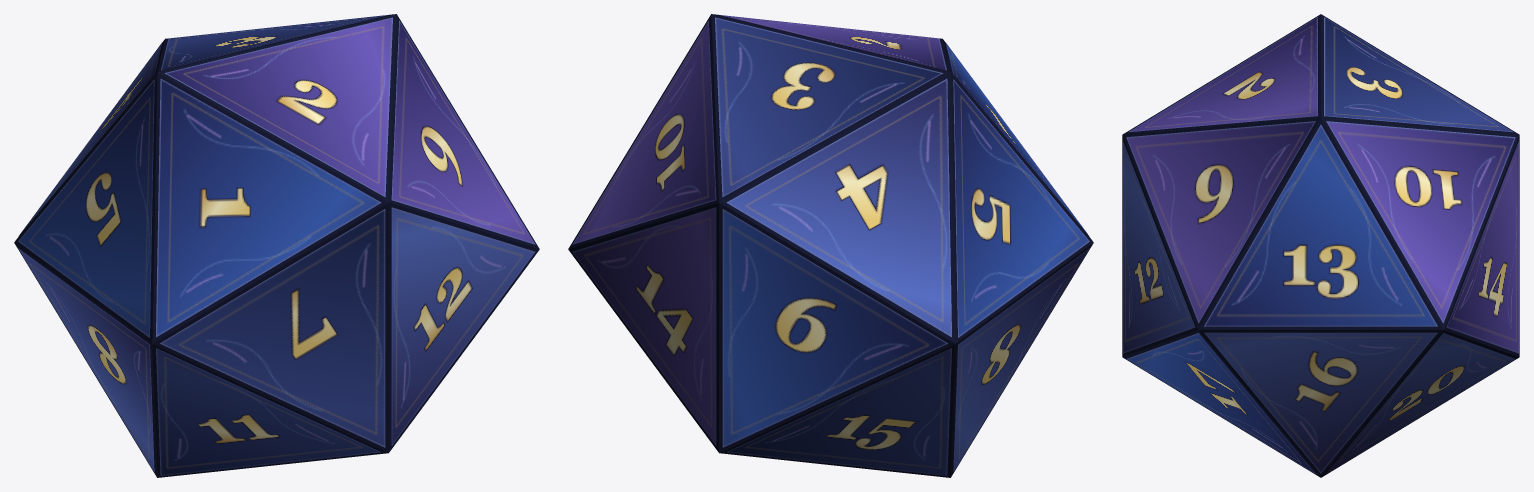
File: d20-transplanar.glb
The picture shows the model from 3 angles, left to right: view 1: azimuth 30°, elevation 25°; view 2: azimuth 150°, elevation 25°; view 3: azimuth 270°, elevation 25°; orthographic projection. The views are drawn at different scales.
Visible parts, largest first — view 1: face-01, face-07, face-02, face-05, face-12, juntas, face-11, face-06, face-08, face-03, face-04; view 2: face-04, face-09, face-03, face-05, face-14, juntas, face-15, face-10, face-08, face-02, face-01; view 3: face-13, face-06, face-10, face-16, juntas, face-02, face-03, face-12, face-14, face-17, face-20.
Boxes of the visible parts, left/top/right/bottom form: face-01: left=156, top=79, right=381, bottom=337; face-07: left=160, top=209, right=385, bottom=447; face-02: left=164, top=17, right=392, bottom=197; face-05: left=18, top=79, right=154, bottom=337; face-12: left=391, top=207, right=535, bottom=445; juntas: left=14, top=14, right=539, bottom=477; face-11: left=156, top=348, right=380, bottom=475; face-06: left=391, top=20, right=535, bottom=244; face-08: left=18, top=248, right=154, bottom=471; face-03: left=161, top=15, right=387, bottom=70; face-04: left=20, top=42, right=162, bottom=233; face-04: left=726, top=79, right=951, bottom=337; face-09: left=722, top=209, right=947, bottom=447; face-03: left=715, top=17, right=943, bottom=197; face-05: left=953, top=79, right=1089, bottom=337; face-14: left=572, top=207, right=716, bottom=445; juntas: left=568, top=14, right=1093, bottom=477; face-15: left=727, top=348, right=951, bottom=475; face-10: left=572, top=20, right=716, bottom=244; face-08: left=953, top=248, right=1089, bottom=471; face-02: left=720, top=15, right=946, bottom=70; face-01: left=945, top=42, right=1087, bottom=233; face-13: left=1204, top=124, right=1437, bottom=326; face-06: left=1126, top=121, right=1315, bottom=323; face-10: left=1326, top=121, right=1515, bottom=323; face-16: left=1204, top=332, right=1437, bottom=473; juntas: left=1122, top=14, right=1519, bottom=477; face-02: left=1128, top=17, right=1317, bottom=132; face-03: left=1324, top=17, right=1513, bottom=132; face-12: left=1123, top=141, right=1195, bottom=353; face-14: left=1446, top=141, right=1518, bottom=353; face-17: left=1126, top=333, right=1315, bottom=473; face-20: left=1326, top=333, right=1515, bottom=473.
Size of the model in its own units: 1.7 by 1.7 by 1.7.
1 material, 1 textured.
